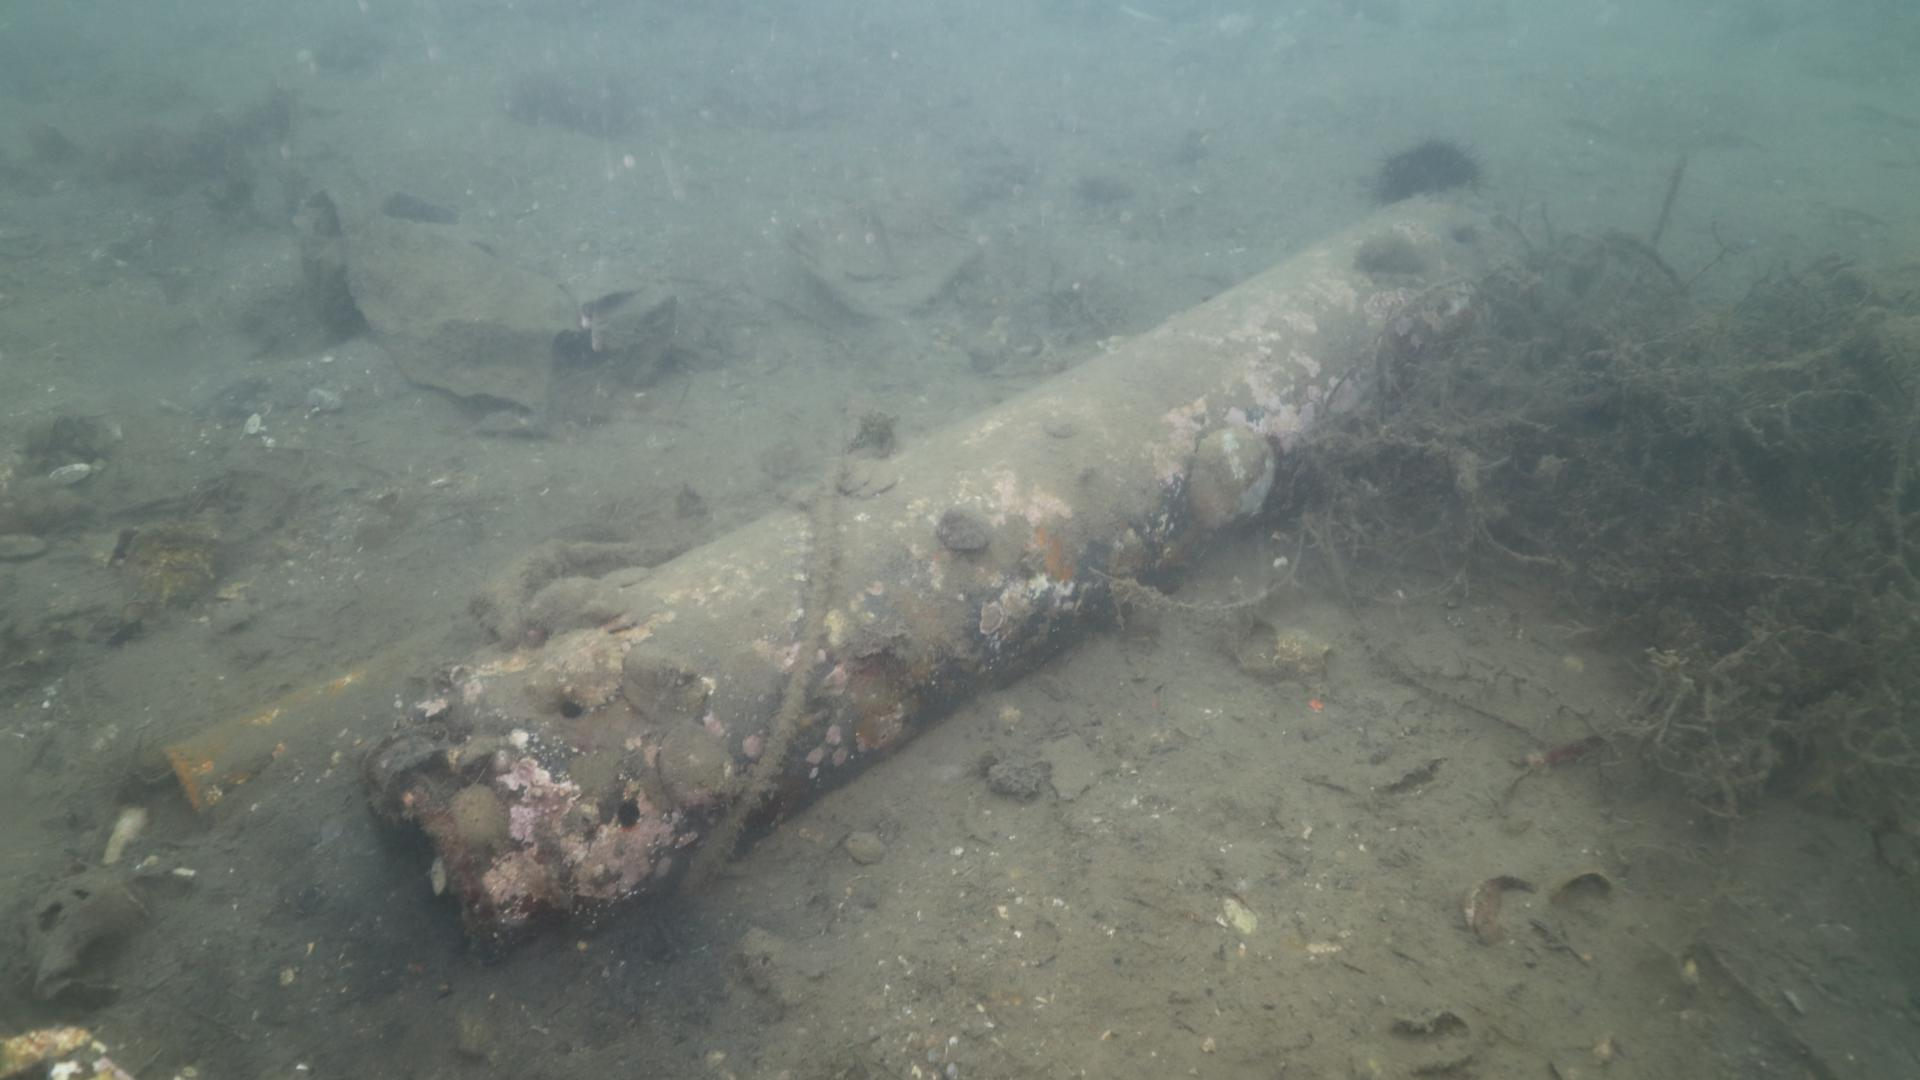eel fish trap: (367, 187, 1545, 945)
rope: (659, 451, 845, 881)
